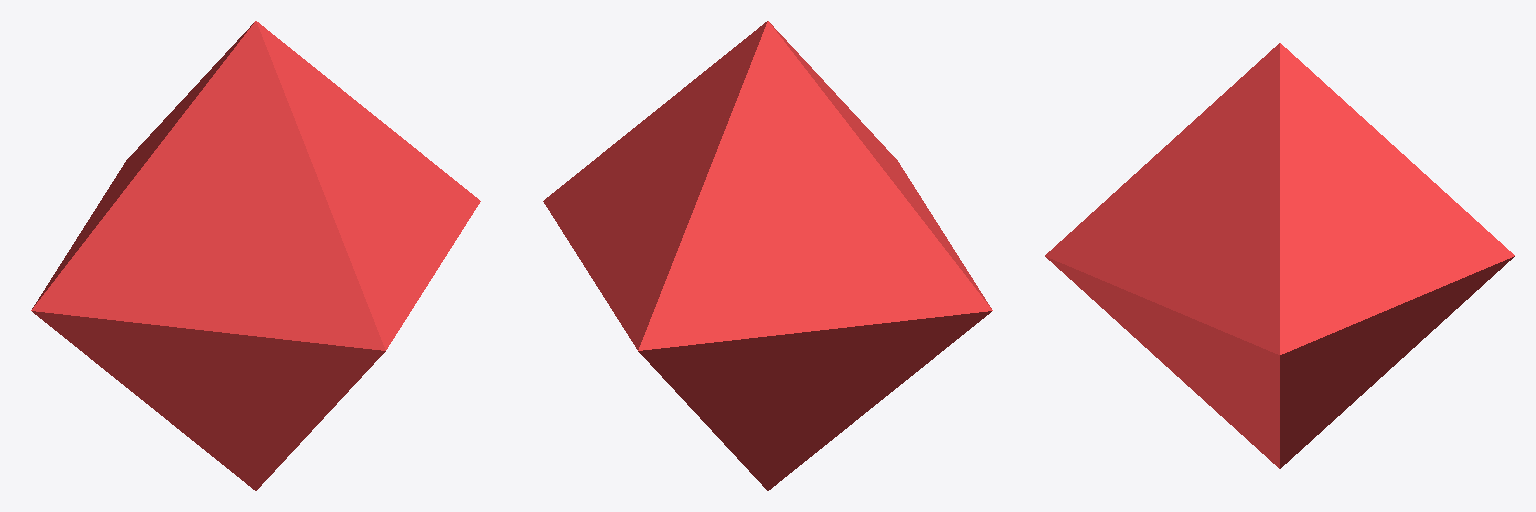
robot.urdf — small.urdf:
<?xml version="0.0" ?>
<robot name="small.urdf">
  <link name="baseLink">
    <contact>
      <lateral_friction value="0.5"/>
      <rolling_friction value="0.0001"/>
      <inertia_scaling value="3.0"/>
    </contact>
    <inertial>
      <origin rpy="0 0 0" xyz="0 0 0"/>
       <mass value=".001"/>
       <inertia ixx="1" ixy="0" ixz="0" iyy="1" iyz="0" izz="1"/>
    </inertial>
    <visual>
      <origin rpy="0 0 0" xyz="0 0 0"/>
      <geometry>
         <mesh filename="octahedron.obj" scale="0.0025 0.0025 0.0025"/>
      </geometry>
      <material name="red">
        <color rgba="1 0.3412 0.3490 1"/>
      </material>
    </visual>
    <collision>
      <origin rpy="0 0 0" xyz="0 0 0"/>
      <geometry>
	 	    <mesh filename="octahedron.obj" scale="0.0025 0.0025 0.0025"/>
      </geometry>
    </collision>
  </link>
</robot>

--- Facts derived from the render (not from the file) ---
3 views of the same robot in one strip: view 1: azimuth 30°, elevation 25°; view 2: azimuth 150°, elevation 25°; view 3: azimuth 270°, elevation 25° (orthographic).
Robot: small.urdf — 1 links, 0 joints (none); root link baseLink; default pose: all joints at 0.
Links seen in each view (by area): view 1: baseLink; view 2: baseLink; view 3: baseLink.
Boxes of the visible links, x1=… form: baseLink: x1=31, y1=21, x2=480, y2=490; baseLink: x1=543, y1=21, x2=992, y2=490; baseLink: x1=1045, y1=43, x2=1514, y2=468.
Bounding box of the posed robot: 0.005 × 0.005 × 0.005 m (x, y, z).
1 mesh visuals loaded from 1 distinct referenced files (1 OBJ).